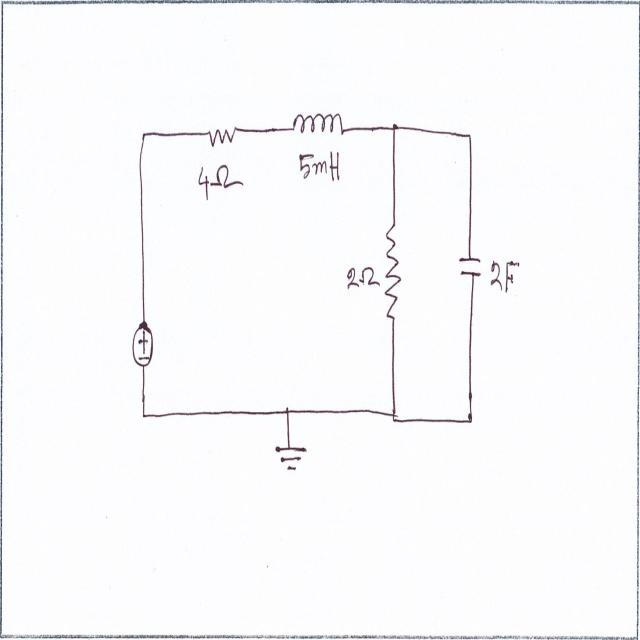ground: (272, 440, 314, 476)
inductor: (290, 109, 345, 152)
resistor: (385, 218, 404, 325), (206, 122, 241, 150)
voltage_source: (132, 323, 156, 373), (457, 250, 485, 284)
